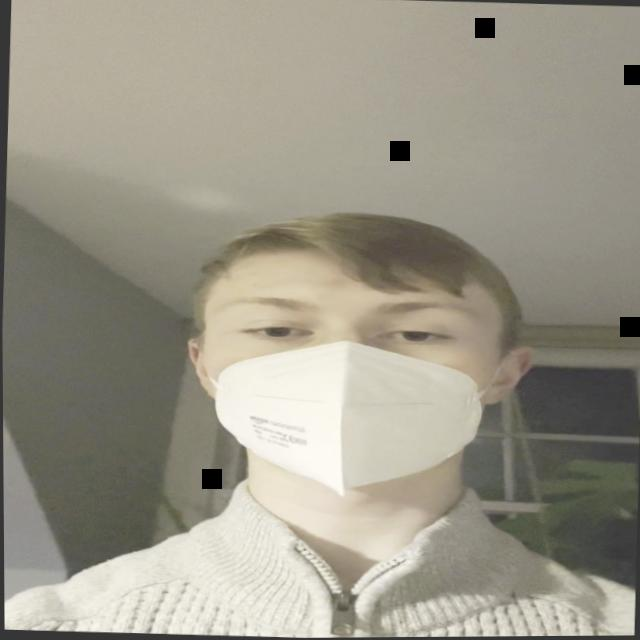Mask: (188, 246, 505, 501)
